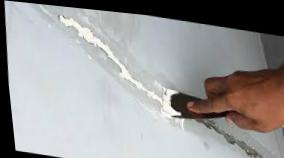crack: (193, 115, 267, 158)
